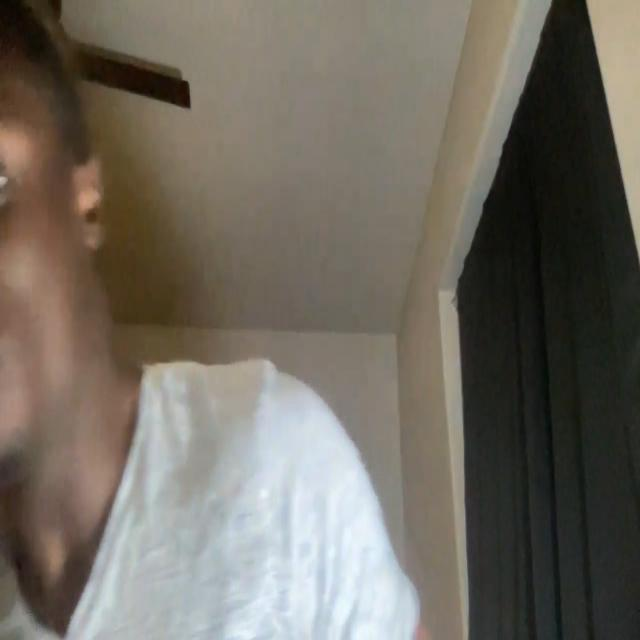face: (0, 37, 101, 484)
